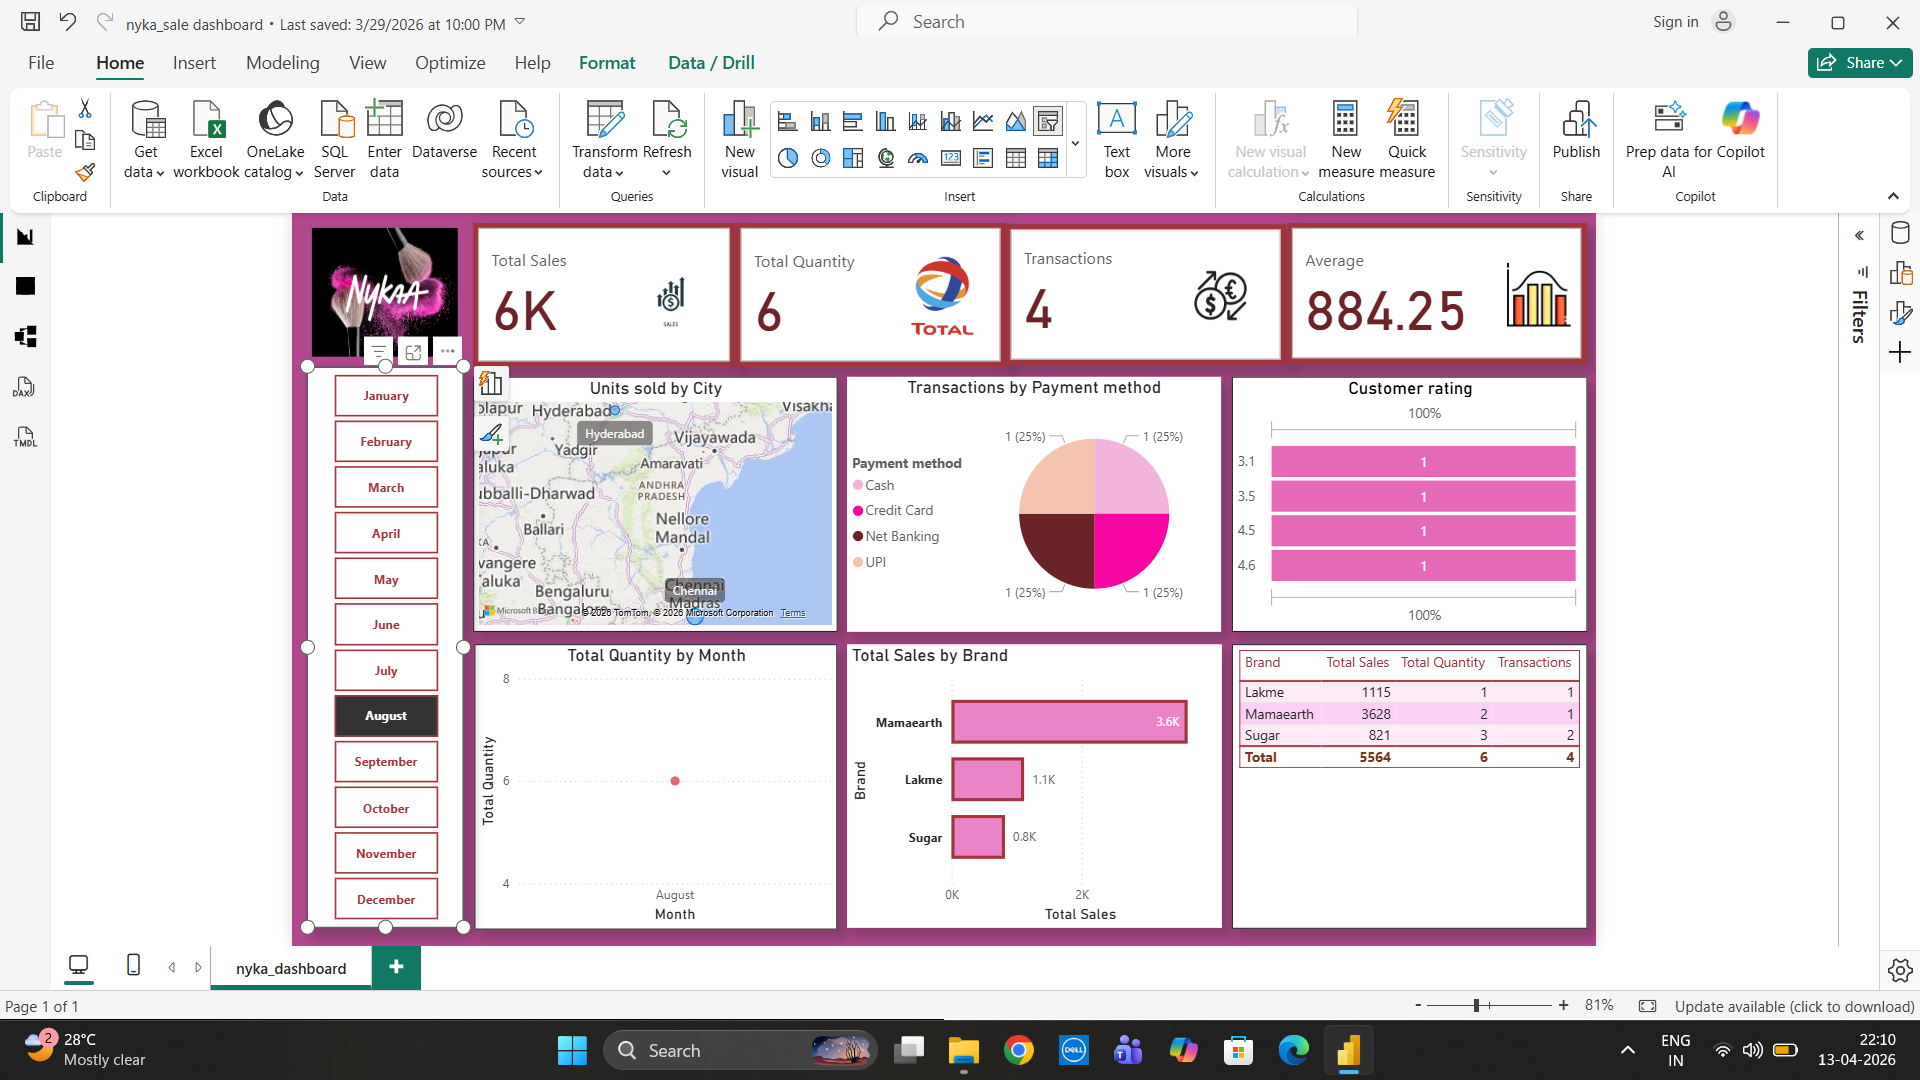

What the dashboard file says about the page in this screenshot:
{"tool":"powerbi","page":{"name":"nyka_dashboard","canvas":[1280,720],"ordinal":0},"visuals":[{"type":"cardVisual","fields":{"Data":["NykaSalesData.Total Sales"]},"box":[177.9,9.8,257.7,141.1],"z":3000},{"type":"cardVisual","fields":{"Data":["NykaSalesData.Total Quantity"]},"box":[435.7,10.1,265.5,141.4],"z":4000},{"type":"cardVisual","fields":{"Data":["NykaSalesData.Transactions"]},"box":[701.2,11.5,275.6,138.5],"z":5000},{"type":"cardVisual","fields":{"Data":["NykaSalesData.Average"]},"box":[976.7,10.1,294.3,138.5],"z":6000},{"type":"map","title":"Units sold by City","fields":{"Category":["NykaSalesData.City"],"Size":["NykaSalesData.Total Sales"]},"box":[177.5,161.2,357.5,250],"z":6001},{"type":"lineChart","fields":{"Category":["NykaSalesData.Date.Variation.Date Hierarchy.Month"],"Y":["NykaSalesData.Total Quantity"]},"box":[179.1,423.3,355.8,279.8],"z":6002},{"type":"pieChart","fields":{"Category":["NykaSalesData.Payment method"],"Y":["NykaSalesData.Transactions"]},"box":[545,161.2,367.5,250],"z":6003},{"type":"funnel","title":"Customer rating","fields":{"Category":["NykaSalesData.Customer rating"],"Y":["CountNonNull(NykaSalesData.Customer rating)"]},"box":[922.5,161.2,348.8,250],"z":6004},{"type":"barChart","fields":{"Category":["NykaSalesData.Brand"],"Y":["NykaSalesData.Total Sales"]},"box":[544.8,423.3,368.1,278.5],"z":6005},{"type":"tableEx","fields":{"Values":["NykaSalesData.Brand","NykaSalesData.Total Sales","NykaSalesData.Total Quantity","NykaSalesData.Transactions"]},"box":[923,423,349,279],"z":6006},{"type":"slicer","fields":{"Values":["NykaSalesData.Date.Variation.Date Hierarchy.Month"]},"box":[14.7,150.9,153.4,550.9],"z":6007},{"type":"image","box":[14.7,9.8,153.4,136.2],"z":6008}]}

Visuals, with their boxes on the page's 1280x720 design canvas (x1, y1, x2, y2). These are canvas units, not pixel positions in the 1920x1080 screenshot, which may show the page scaled, cropped or inside an application window:
cardVisual - NykaSalesData.Total Sales: {"left": 178, "top": 10, "right": 436, "bottom": 151}
cardVisual - NykaSalesData.Total Quantity: {"left": 436, "top": 10, "right": 701, "bottom": 152}
cardVisual - NykaSalesData.Transactions: {"left": 701, "top": 12, "right": 977, "bottom": 150}
cardVisual - NykaSalesData.Average: {"left": 977, "top": 10, "right": 1271, "bottom": 149}
"Units sold by City" map: {"left": 178, "top": 161, "right": 535, "bottom": 411}
lineChart - NykaSalesData.Date.Variation.Date Hierarchy.Month x NykaSalesData.Total Quantity: {"left": 179, "top": 423, "right": 535, "bottom": 703}
pieChart - NykaSalesData.Payment method x NykaSalesData.Transactions: {"left": 545, "top": 161, "right": 912, "bottom": 411}
"Customer rating" funnel: {"left": 922, "top": 161, "right": 1271, "bottom": 411}
barChart - NykaSalesData.Brand x NykaSalesData.Total Sales: {"left": 545, "top": 423, "right": 913, "bottom": 702}
tableEx - NykaSalesData.Brand x NykaSalesData.Total Sales: {"left": 923, "top": 423, "right": 1272, "bottom": 702}
slicer - NykaSalesData.Date.Variation.Date Hierarchy.Month: {"left": 15, "top": 151, "right": 168, "bottom": 702}
image: {"left": 15, "top": 10, "right": 168, "bottom": 146}
